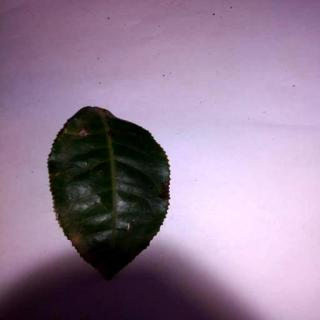Bird Eye Spot: (49, 108, 172, 282)
